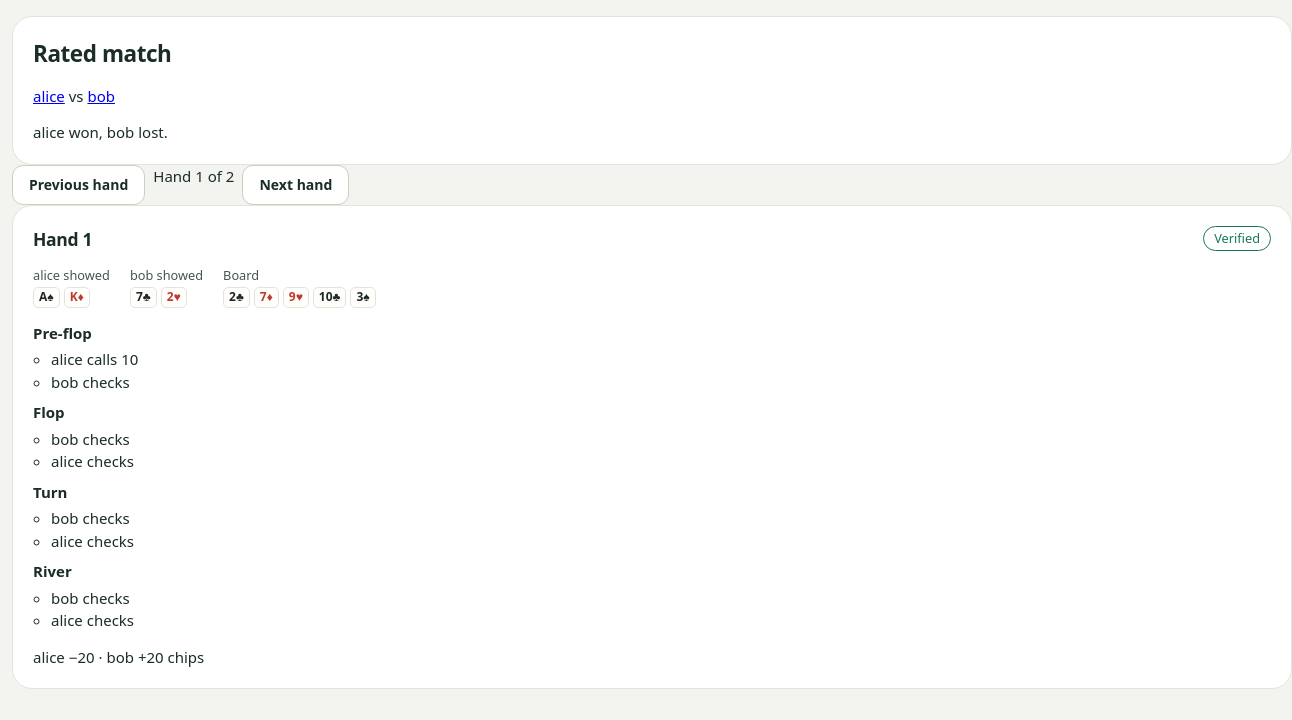
Scenario: the public match review › shows each hand with only the cards shown at showdown
Expected: the text "alice won, bob lost." is shown, [33, 122, 168, 142]
Expected: the text "alice showed" is shown, [33, 266, 110, 285]
Note: Hand 2 ended with a fold before the flop: no card of anyone's.
Step 1. Click the button "Next hand" → coordinates (296, 185), box [242, 165, 349, 205]
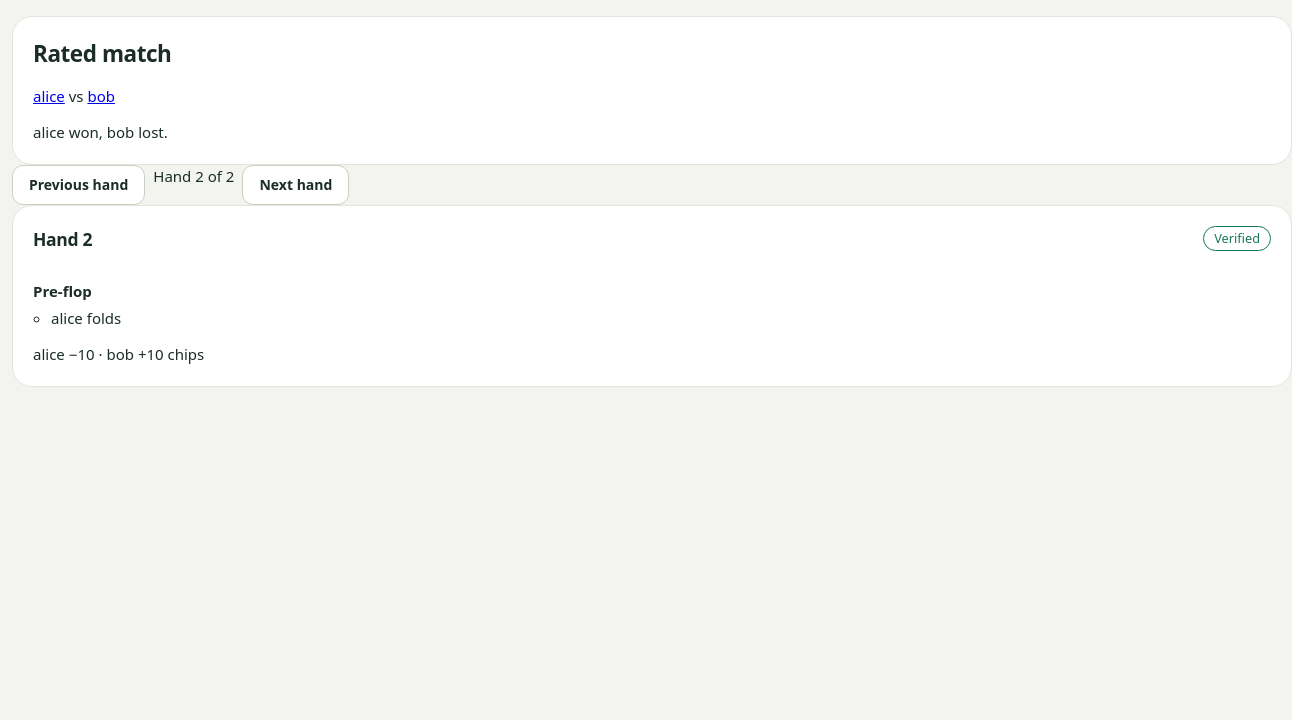
Now the text "showed" is gone
Now the element "Hand 2" shows "alice folds", box [12, 205, 1291, 387]
Now the text "Hand 2 of 2" is shown, box [153, 166, 234, 186]
